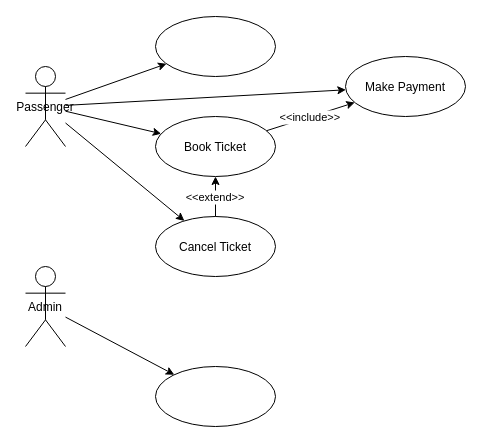
Image size: 482x443. Some labels were removed from this diagram. Here are the shapes that lost their labels. From the top down, the centre of each, then its label:
the point at 215,46: Search Flights
the point at 215,396: Manage Flights
